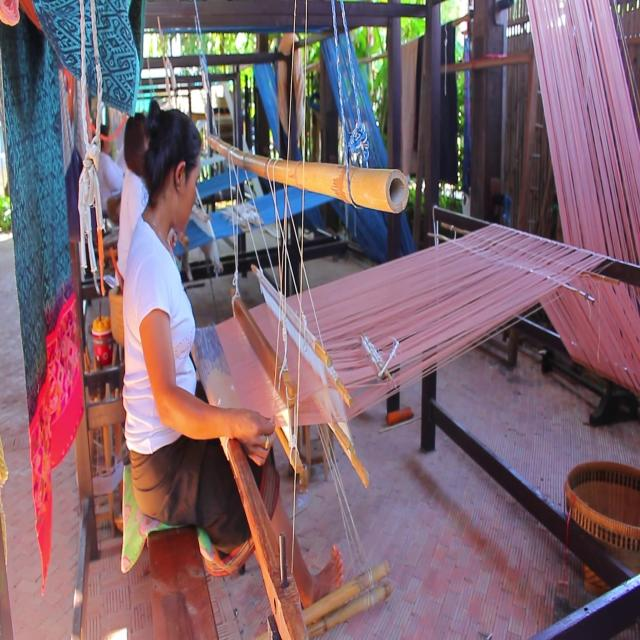not-gloved: (228, 406, 276, 467)
